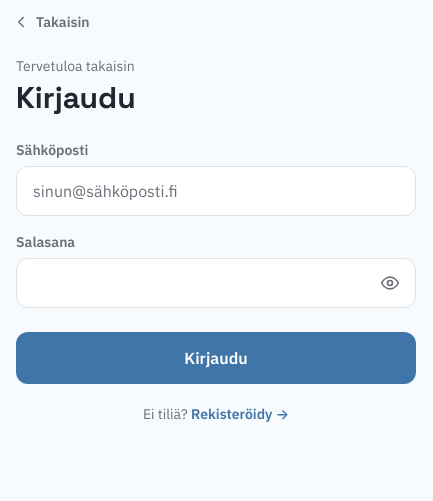
it: Login (integration) › shows the "account pending" message when the account is not yet approved
Type "jeremia@example.fi" into the field labelled "Sähköposti" at [216, 191], box top-left (16, 166), bottom-right (416, 216)
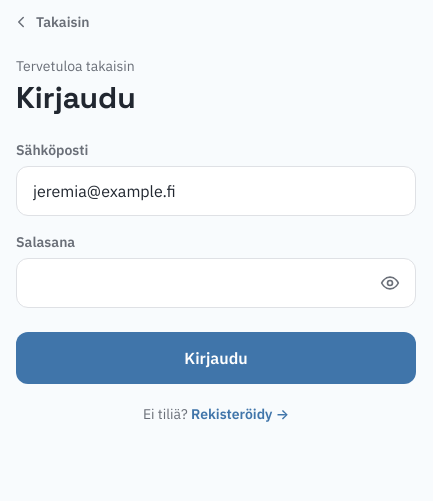
Type "salasana123" into the password field labelled "Salasana" at [216, 283], box top-left (16, 258), bottom-right (416, 308)
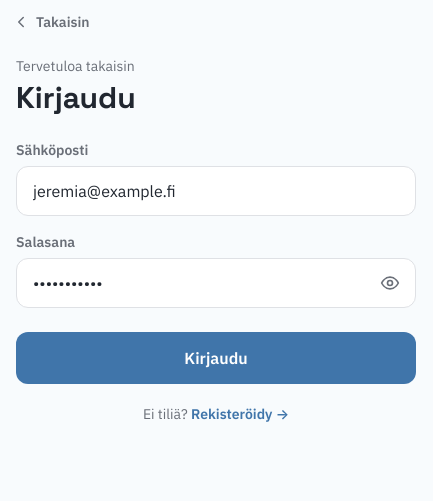
Click the button "Kirjaudu" at [216, 358], box top-left (16, 332), bottom-right (416, 384)
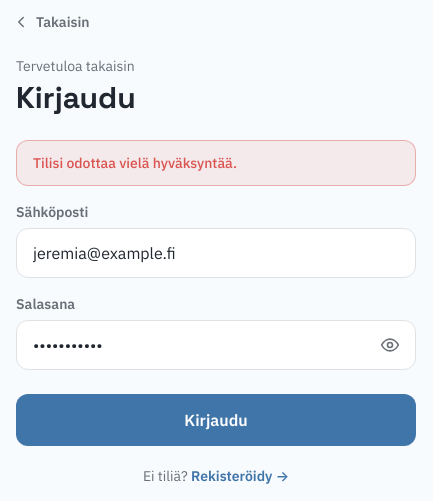
Now the text "Tilisi odottaa vielä hyväksyntää." is shown, box top-left (16, 140), bottom-right (416, 186)
